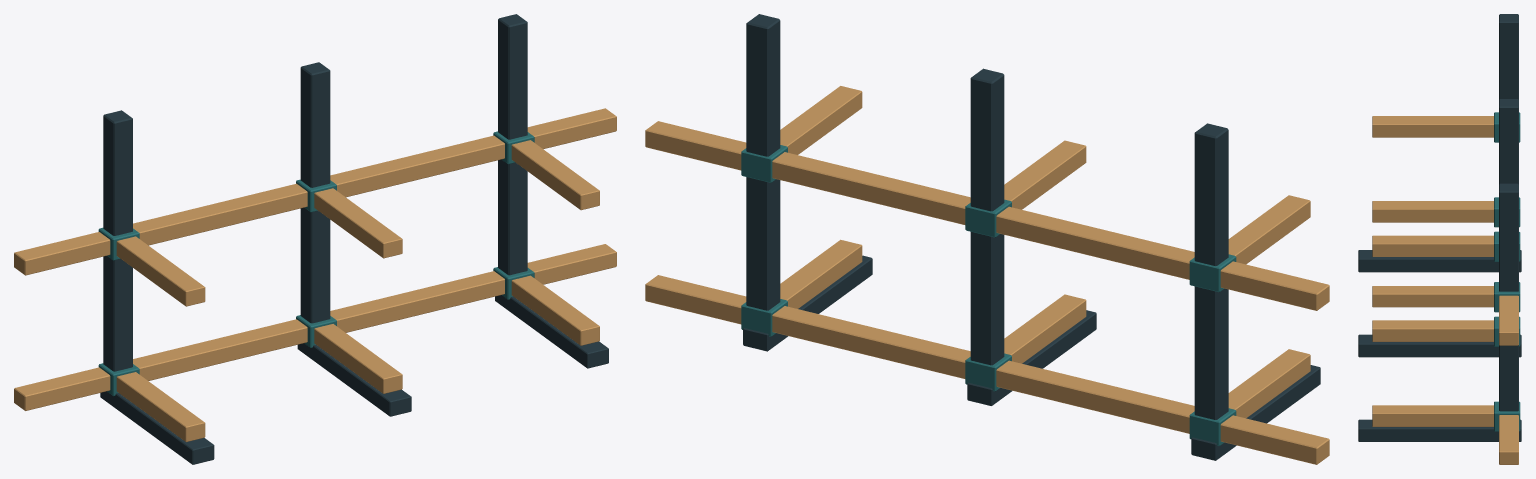
File: long-rack.glb
The picture shows the model from 3 angles, left to right: view 1: azimuth 30°, elevation 25°; view 2: azimuth 150°, elevation 25°; view 3: azimuth 270°, elevation 25°; orthographic projection. The views are drawn at different scales.
Visible parts, largest first — view 1: long-rack; view 2: long-rack; view 3: long-rack.
Boxes of the visible parts, x1,y1,x2,y2 form: long-rack: [14, 14, 616, 464]; long-rack: [645, 14, 1329, 464]; long-rack: [1358, 14, 1521, 464].
Size of the model in its own units: 4.8 by 2.2 by 1.3.
